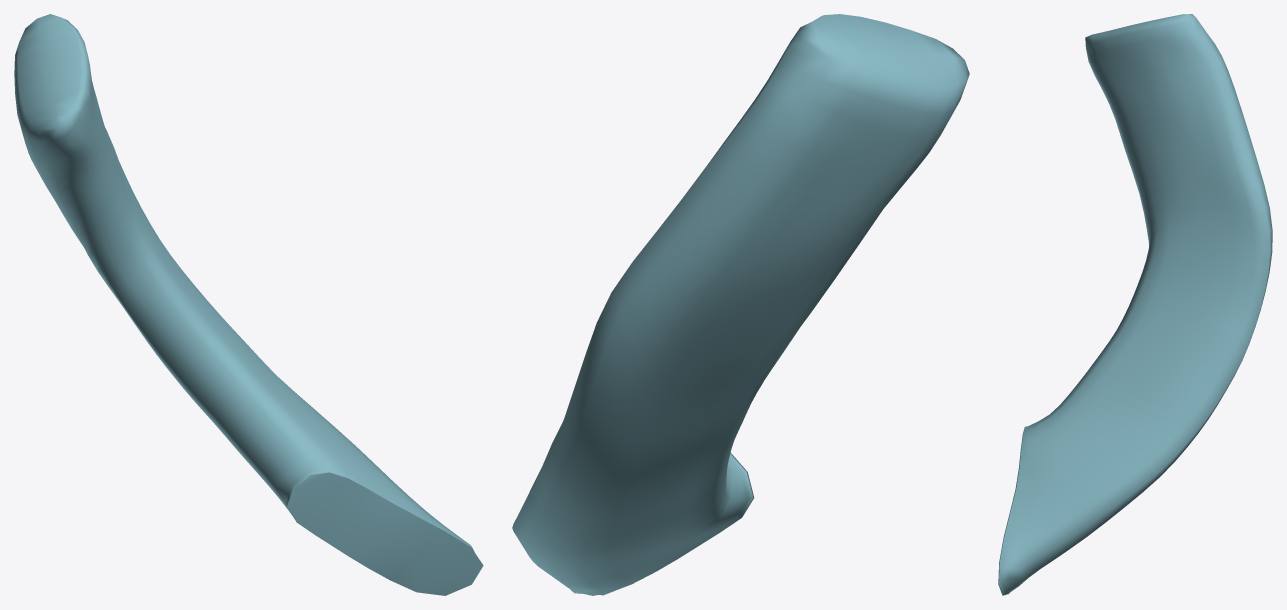
3 views of the same model, side by side, from view 1: azimuth 30°, elevation 25°; view 2: azimuth 150°, elevation 25°; view 3: azimuth 270°, elevation 25° (orthographic). The views are drawn at different scales.
Visible parts, largest first — view 1: 右侧第十肋软骨; view 2: 右侧第十肋软骨; view 3: 右侧第十肋软骨.
Part boxes in pixels (x1=…): 右侧第十肋软骨: x1=14, y1=14, x2=483, y2=595; 右侧第十肋软骨: x1=512, y1=14, x2=969, y2=595; 右侧第十肋软骨: x1=998, y1=14, x2=1272, y2=595.
Bounding box in the file's own units: 0.0694 × 0.0993 × 0.053.
